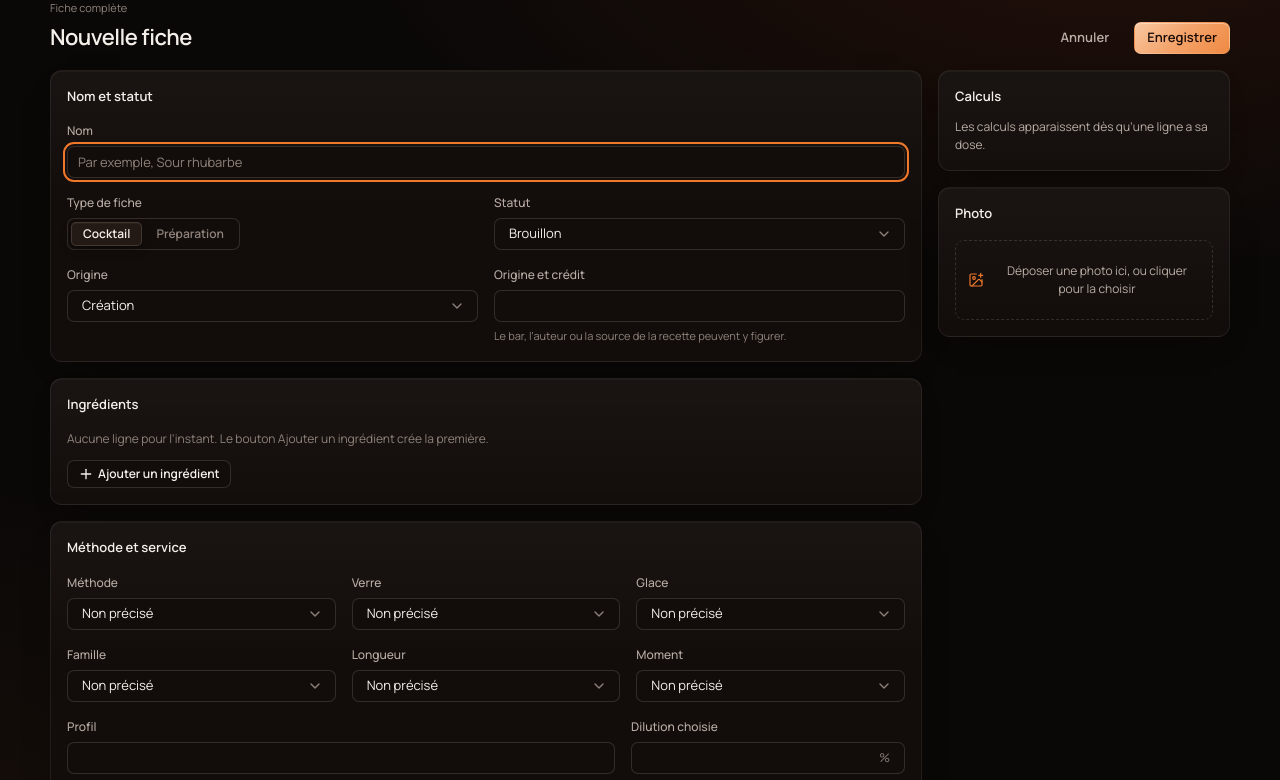
Scenario: RecipeEditorPage › says when the new ingredient already exists in that category
Click the button "Ajouter un ingrédient" at (149, 474), box [67,460,231,488]
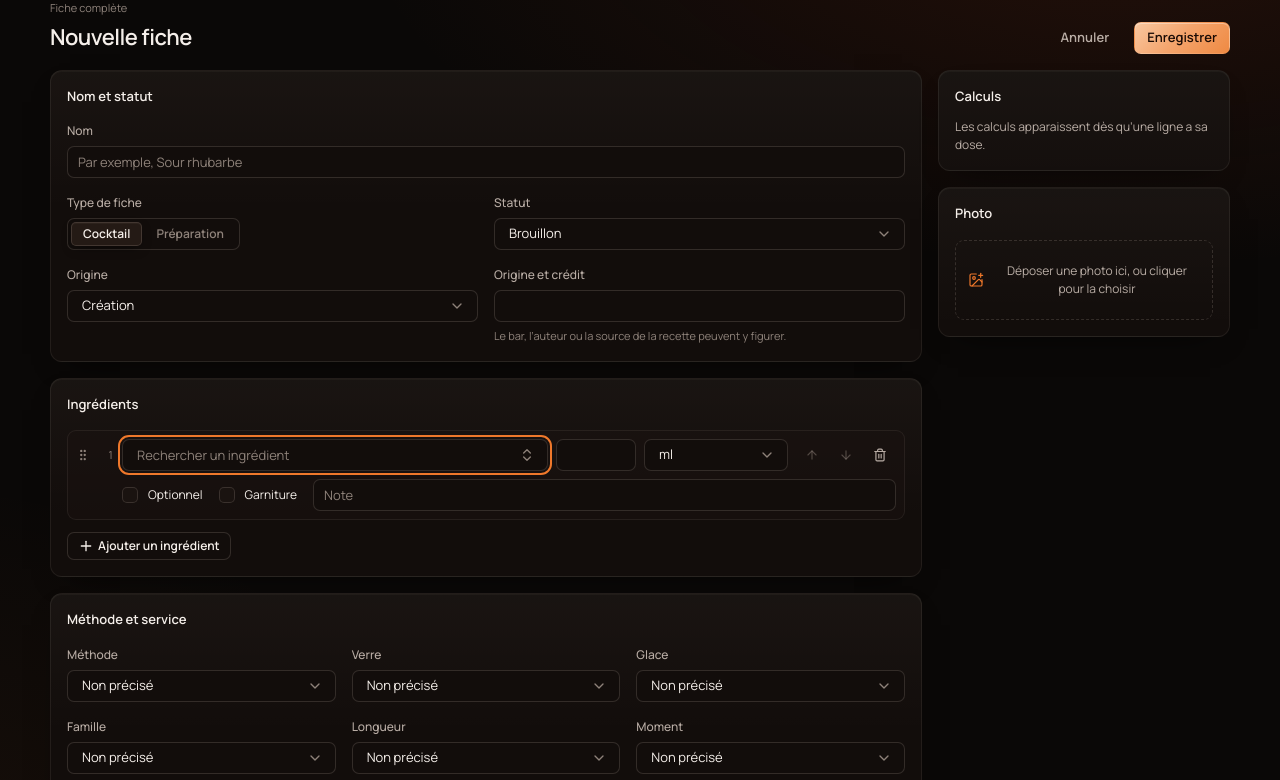
Type "Orgeat" into the dropdown with placeholder "Rechercher un ingrédient" at (324, 455), box [137,440,511,470]
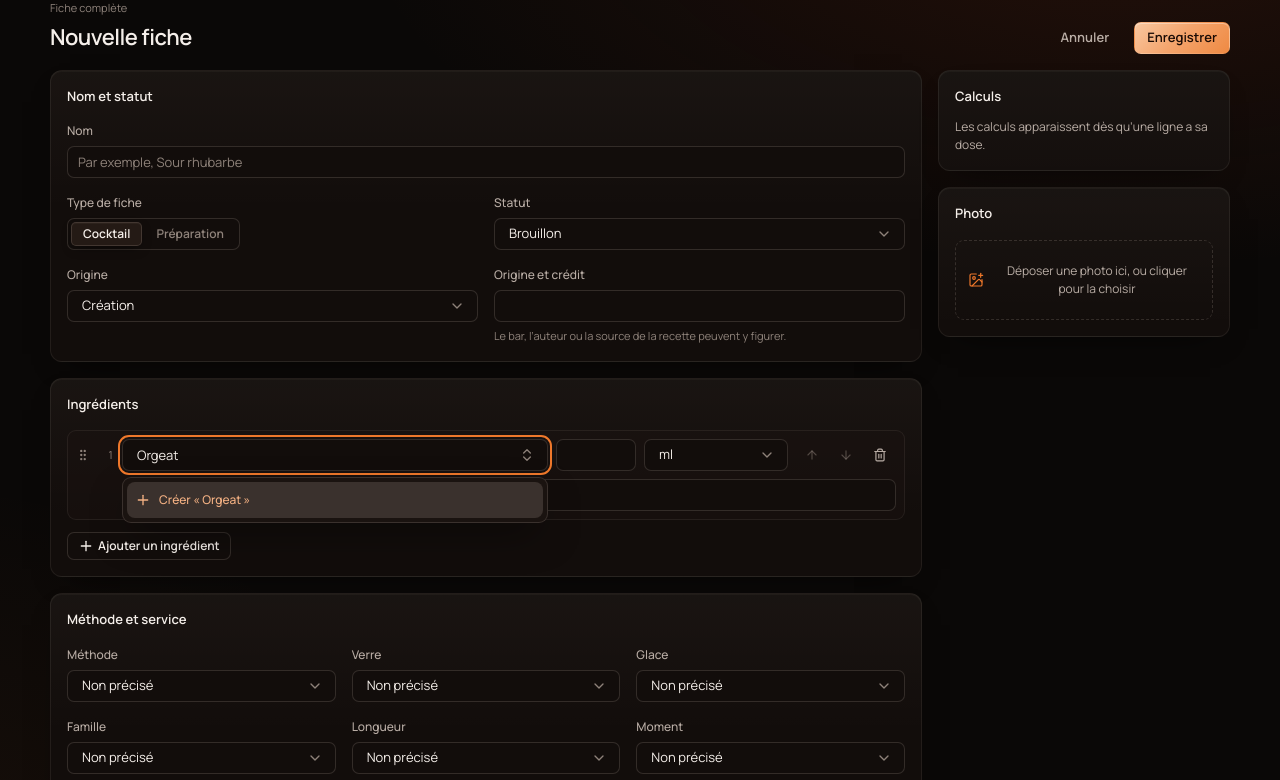
Click the option "Créer « Orgeat »" at (205, 500), box [127,482,543,518]
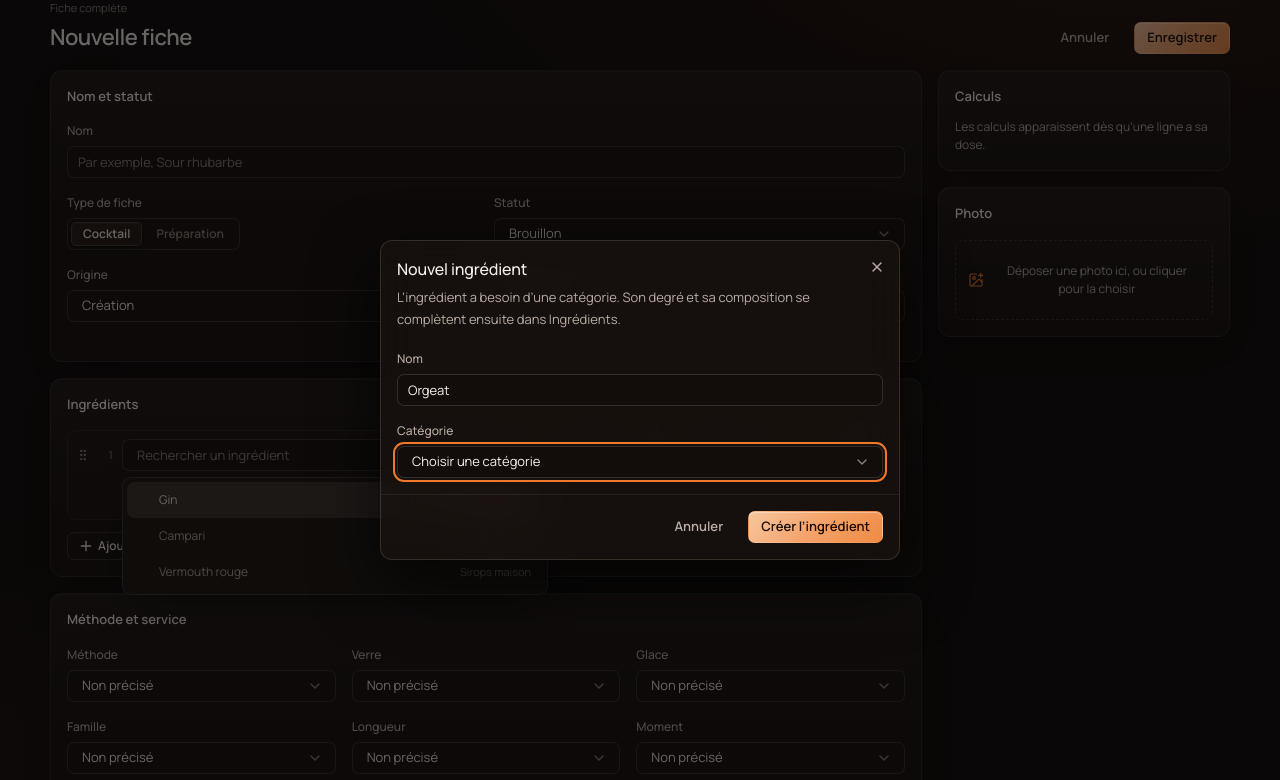
Select "Sirops maison" in the dropdown labelled "Catégorie" at (640, 462), box [398,447,882,477]
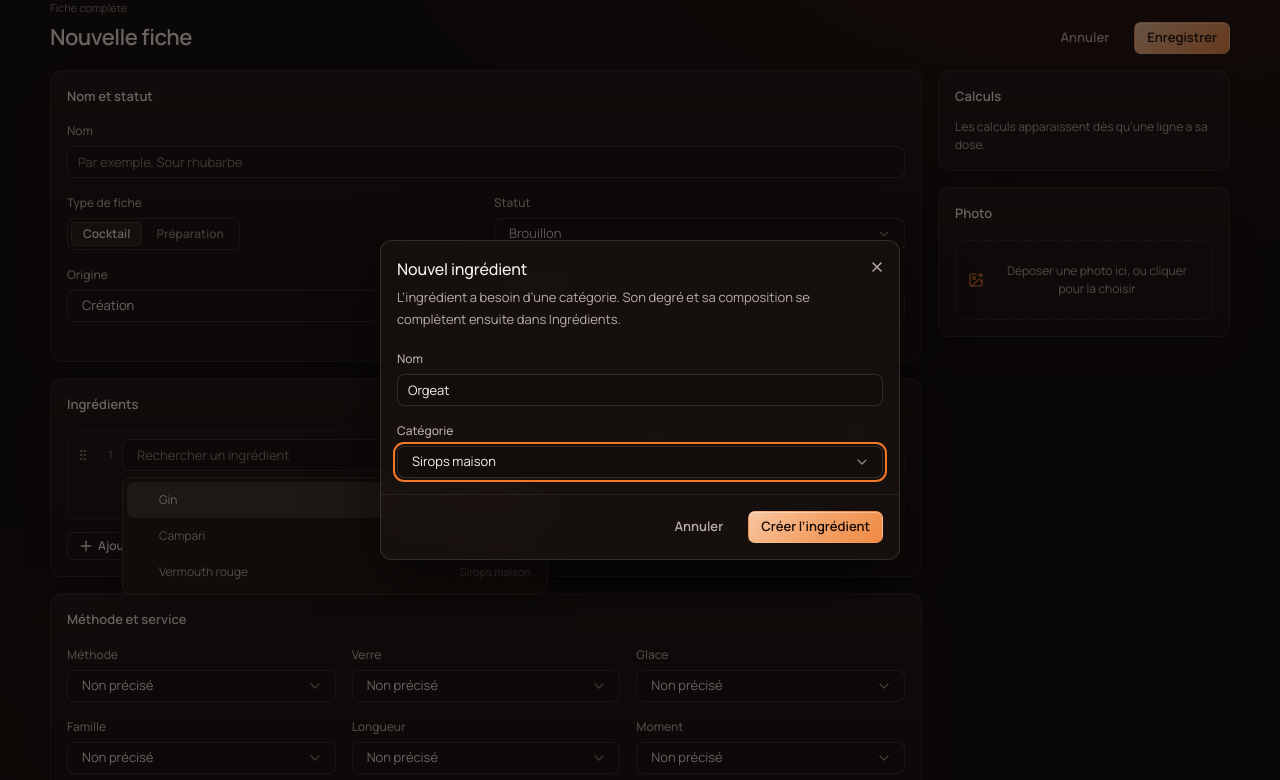
Click the button "Créer l’ingrédient" at (816, 527), box [748,511,883,543]
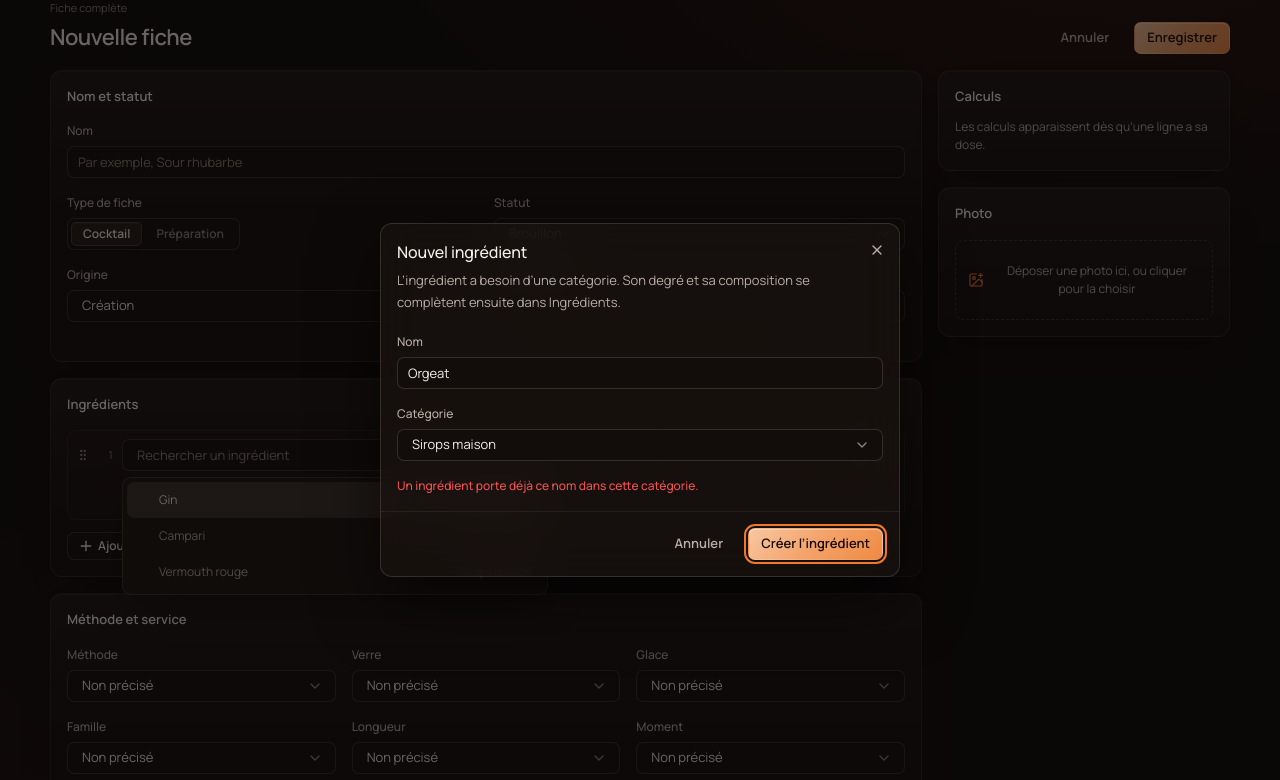
expect the message reads "Un ingrédient porte déjà ce nom dans cette catégorie.": met, box [397,477,698,494]
